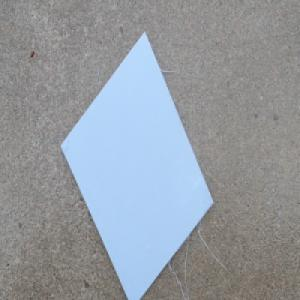PaintChip: (58, 28, 215, 300)
